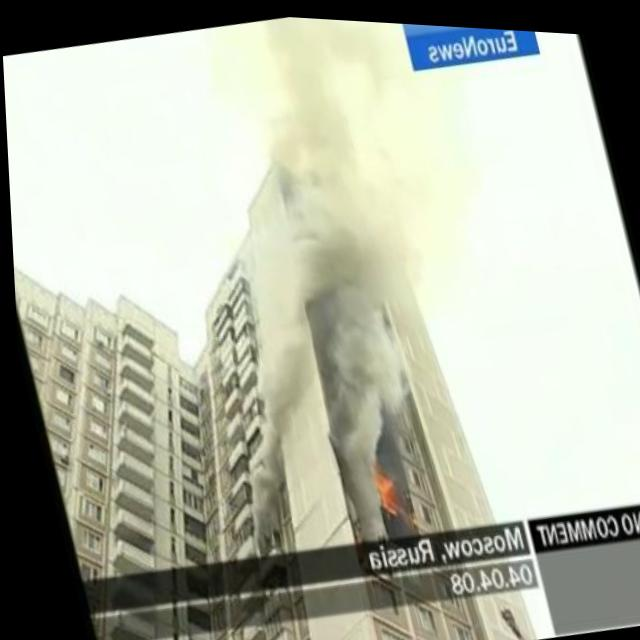fire: (364, 460, 397, 512)
